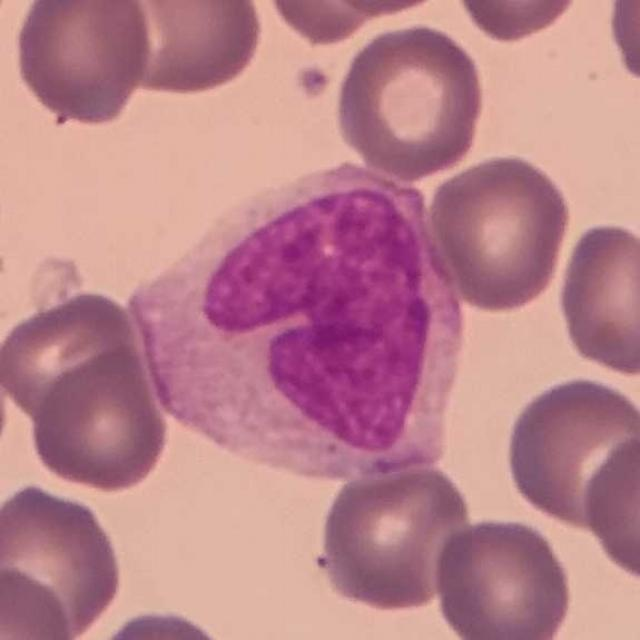Monocyte: (126, 150, 467, 478)
Platelets: (285, 49, 337, 104)
RBC: (312, 458, 476, 614), (332, 20, 488, 181), (424, 149, 574, 315), (501, 371, 640, 533), (26, 345, 172, 495), (0, 286, 145, 426), (0, 481, 127, 639), (9, 0, 157, 128), (428, 513, 576, 640), (98, 0, 267, 100), (552, 217, 640, 380), (579, 428, 640, 588), (256, 0, 410, 47), (0, 562, 78, 640), (451, 0, 585, 45), (79, 604, 240, 640), (603, 0, 640, 90), (298, 0, 462, 18), (0, 0, 22, 41)
